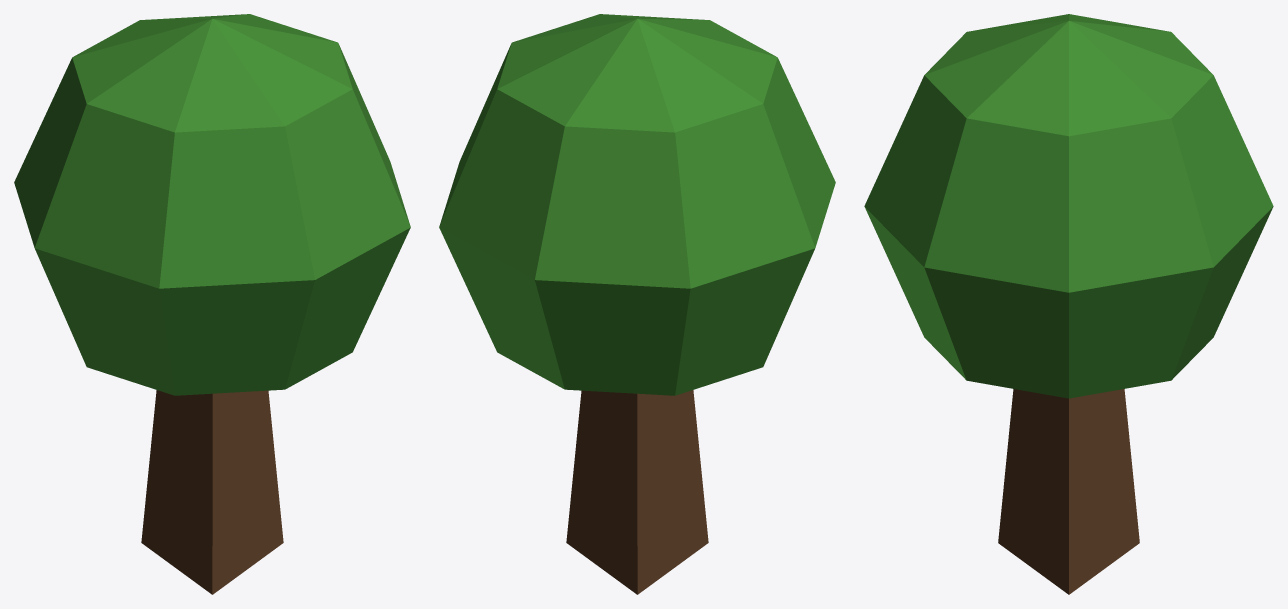
Rendered from tree.glb.
3 views of the same model, side by side, from view 1: azimuth 30°, elevation 25°; view 2: azimuth 150°, elevation 25°; view 3: azimuth 270°, elevation 25° (orthographic).
Visible parts, largest first — view 1: crown, trunk; view 2: crown, trunk; view 3: crown, trunk.
Boxes of the visible parts, x1=… form: crown: x1=14, y1=14, x2=410, y2=395; trunk: x1=141, y1=390, x2=283, y2=594; crown: x1=439, y1=14, x2=835, y2=395; trunk: x1=566, y1=390, x2=708, y2=594; crown: x1=864, y1=14, x2=1273, y2=398; trunk: x1=998, y1=389, x2=1139, y2=594.
Size of the model in its own units: 0.22 by 0.32 by 0.22.
